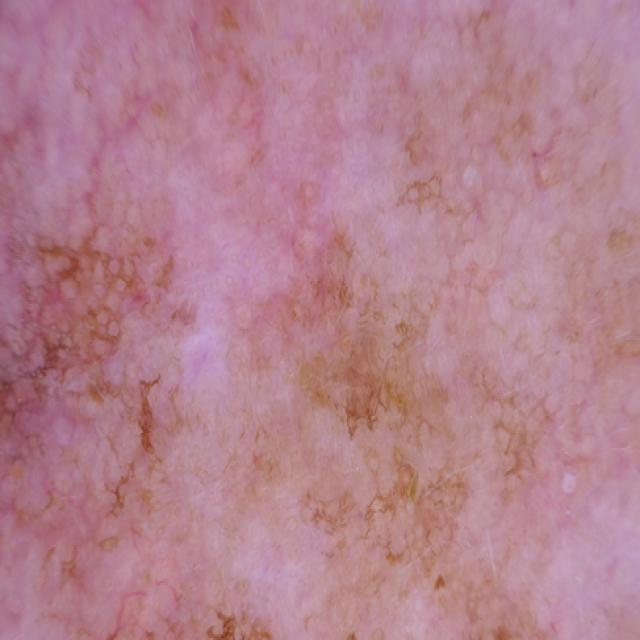Keratosis: (87, 125, 392, 447), (419, 294, 640, 640), (71, 518, 336, 640), (0, 254, 74, 473)
